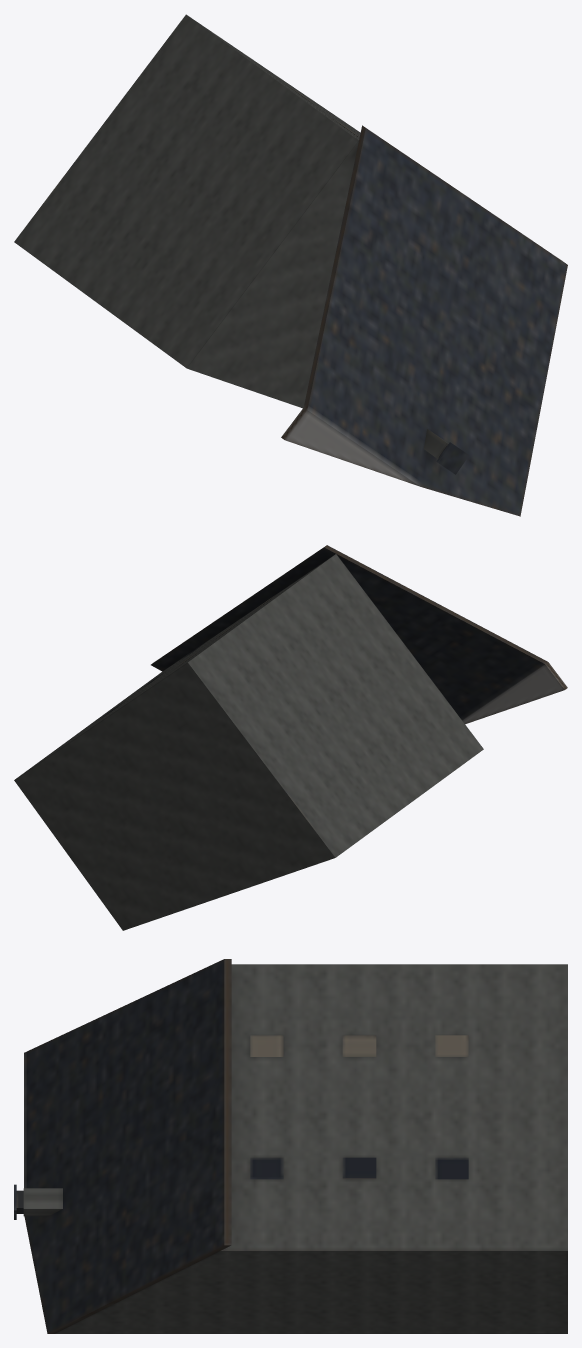
File: house_b0309.obj
3 views of the same model, one above another, from view 1: azimuth 30°, elevation 25°; view 2: azimuth 150°, elevation 25°; view 3: azimuth 270°, elevation 25° (orthographic). The views are drawn at different scales.
Parts seen in each view (by area): view 1: house_b0309; view 2: house_b0309; view 3: house_b0309.
Boxes of the visible parts, <box> form: house_b0309: <box>14,14,567,516</box>; house_b0309: <box>14,545,567,930</box>; house_b0309: <box>14,959,567,1333</box>.
Bounding box in the file's own units: 14.42 × 12.25 × 17.97.
1 material, 1 textured.
